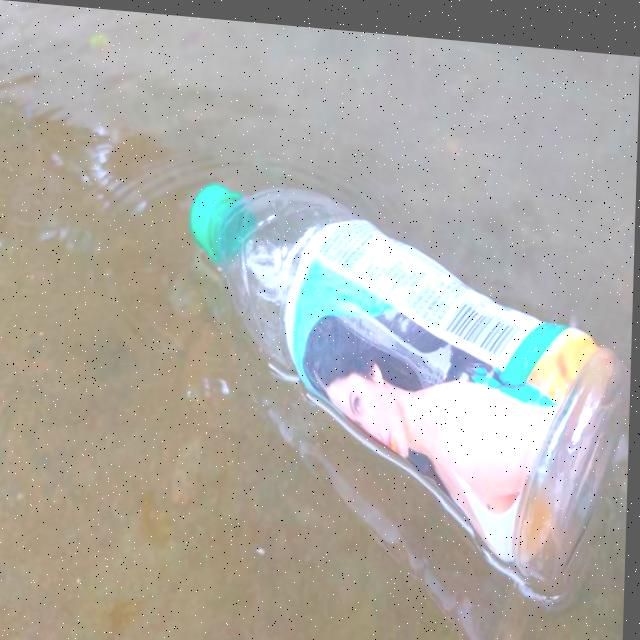waterbottle: (167, 148, 637, 584)
